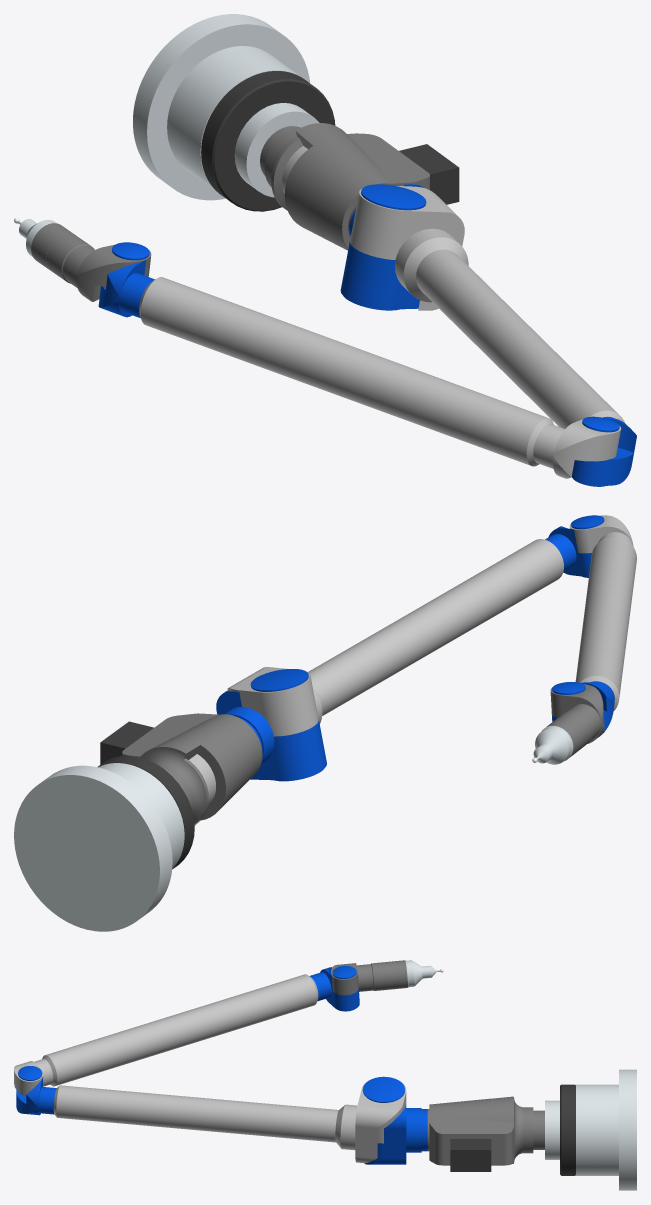
The model's file is FaroArm Quantum v8 F360 FBX.fbx.
3 renders of one model, top to bottom at view 1: azimuth 30°, elevation 25°; view 2: azimuth 150°, elevation 25°; view 3: azimuth 270°, elevation 25°, orthographic. The views are drawn at different scales.
Visible parts, largest first — view 1: Body1 (×9); view 2: Body1 (×10); view 3: Body1 (×10).
Boxes of the visible parts, x1,y1,x2,y2 form: Body1 (×9): [31, 14, 636, 486]; Body1 (×10): [14, 515, 636, 931]; Body1 (×10): [14, 960, 636, 1190].
Bounding box in the file's own units: 566 × 214 × 1029.
